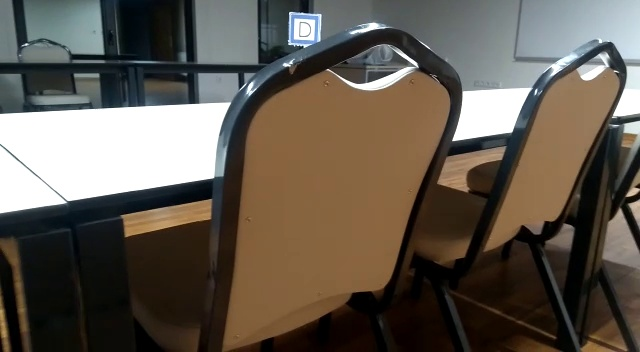durak: (288, 11, 321, 46)
